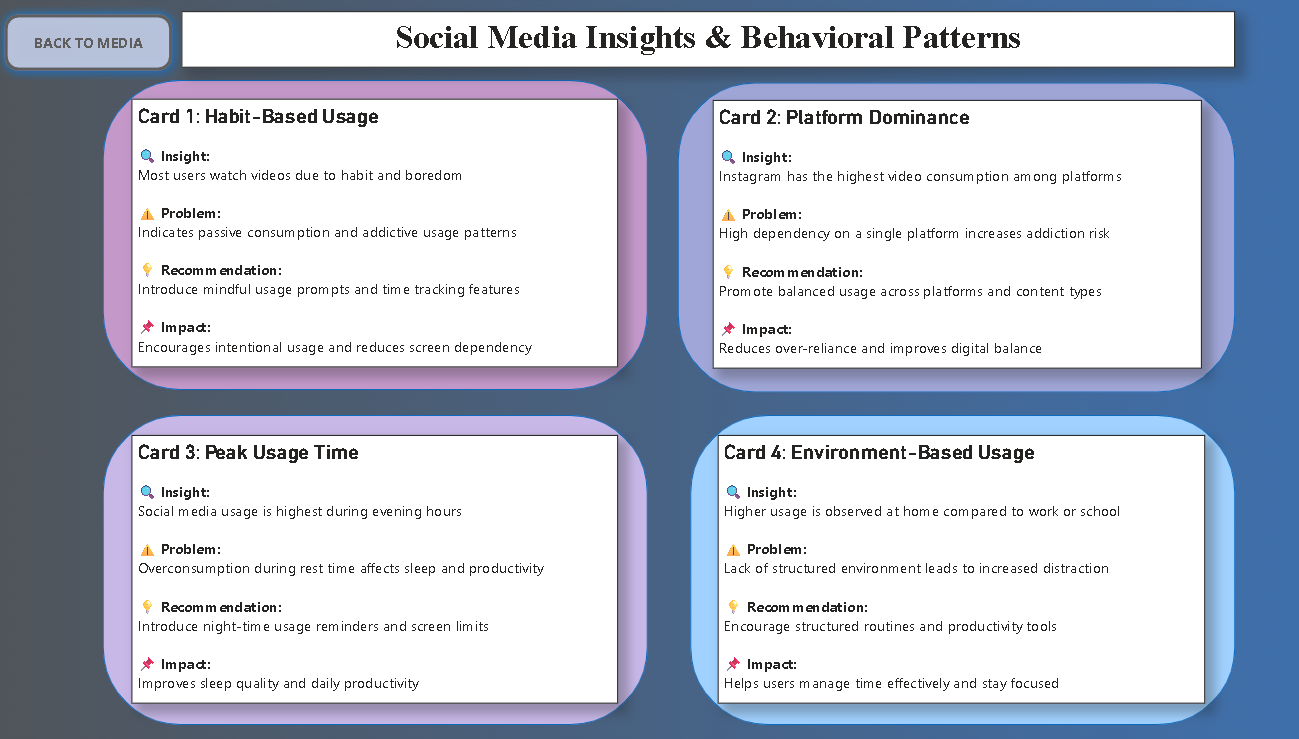

What the dashboard file says about the page in this screenshot:
{"tool":"powerbi","page":{"name":"SOCIAL MEDIA INSIGHTS","canvas":[1280,720],"ordinal":5},"visuals":[{"type":"shape","box":[114.6,82,526,299.2],"z":0},{"type":"shape","box":[669.6,84.5,538.1,299.2],"z":1000},{"type":"shape","box":[114.6,405.4,526,299.2],"z":2000},{"type":"shape","box":[681.6,405.4,526,299.2],"z":3000},{"type":"textbox","box":[142.4,100.1,469.3,259.4],"z":4000},{"type":"textbox","box":[142.4,424.7,469.3,259.4],"z":5000},{"type":"textbox","box":[703.4,101.3,471.7,259.4],"z":6000},{"type":"textbox","box":[708.2,424.7,470.5,259.4],"z":7000},{"type":"actionButton","title":"BUTTON","box":[10.9,9.7,179.8,72.4],"z":8000},{"type":"textbox","box":[190.6,15.7,1017,54.3],"z":9000}]}

Visuals, with their boxes in screenshot pixels (x1, y1, x2, y2), scaled from the page's 1280x720 canvas onto the 1299x739 screenshot:
shape: BBox(116, 84, 650, 391)
shape: BBox(680, 87, 1226, 394)
shape: BBox(116, 416, 650, 723)
shape: BBox(692, 416, 1226, 723)
textbox: BBox(145, 103, 621, 369)
textbox: BBox(145, 436, 621, 702)
textbox: BBox(714, 104, 1193, 370)
textbox: BBox(719, 436, 1196, 702)
"BUTTON" actionButton: BBox(11, 10, 194, 84)
textbox: BBox(193, 16, 1226, 72)
